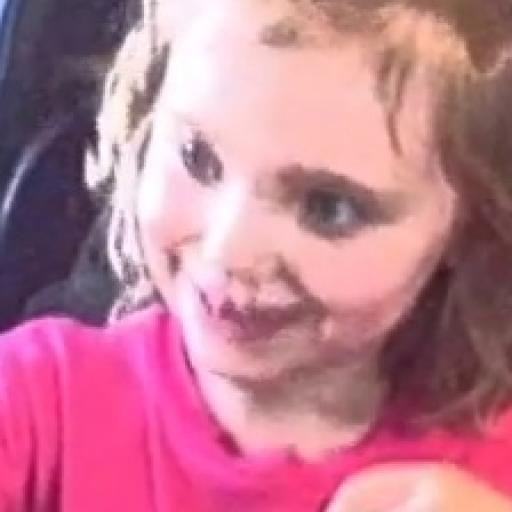Autism: (50, 18, 512, 409)
